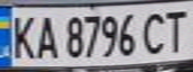6: (115, 9, 142, 57)
7: (81, 11, 103, 58)
8: (60, 11, 84, 60)
9: (100, 11, 121, 58)
A: (33, 11, 60, 60)
C: (139, 7, 172, 56)
K: (3, 11, 39, 61)
T: (160, 6, 193, 54)
